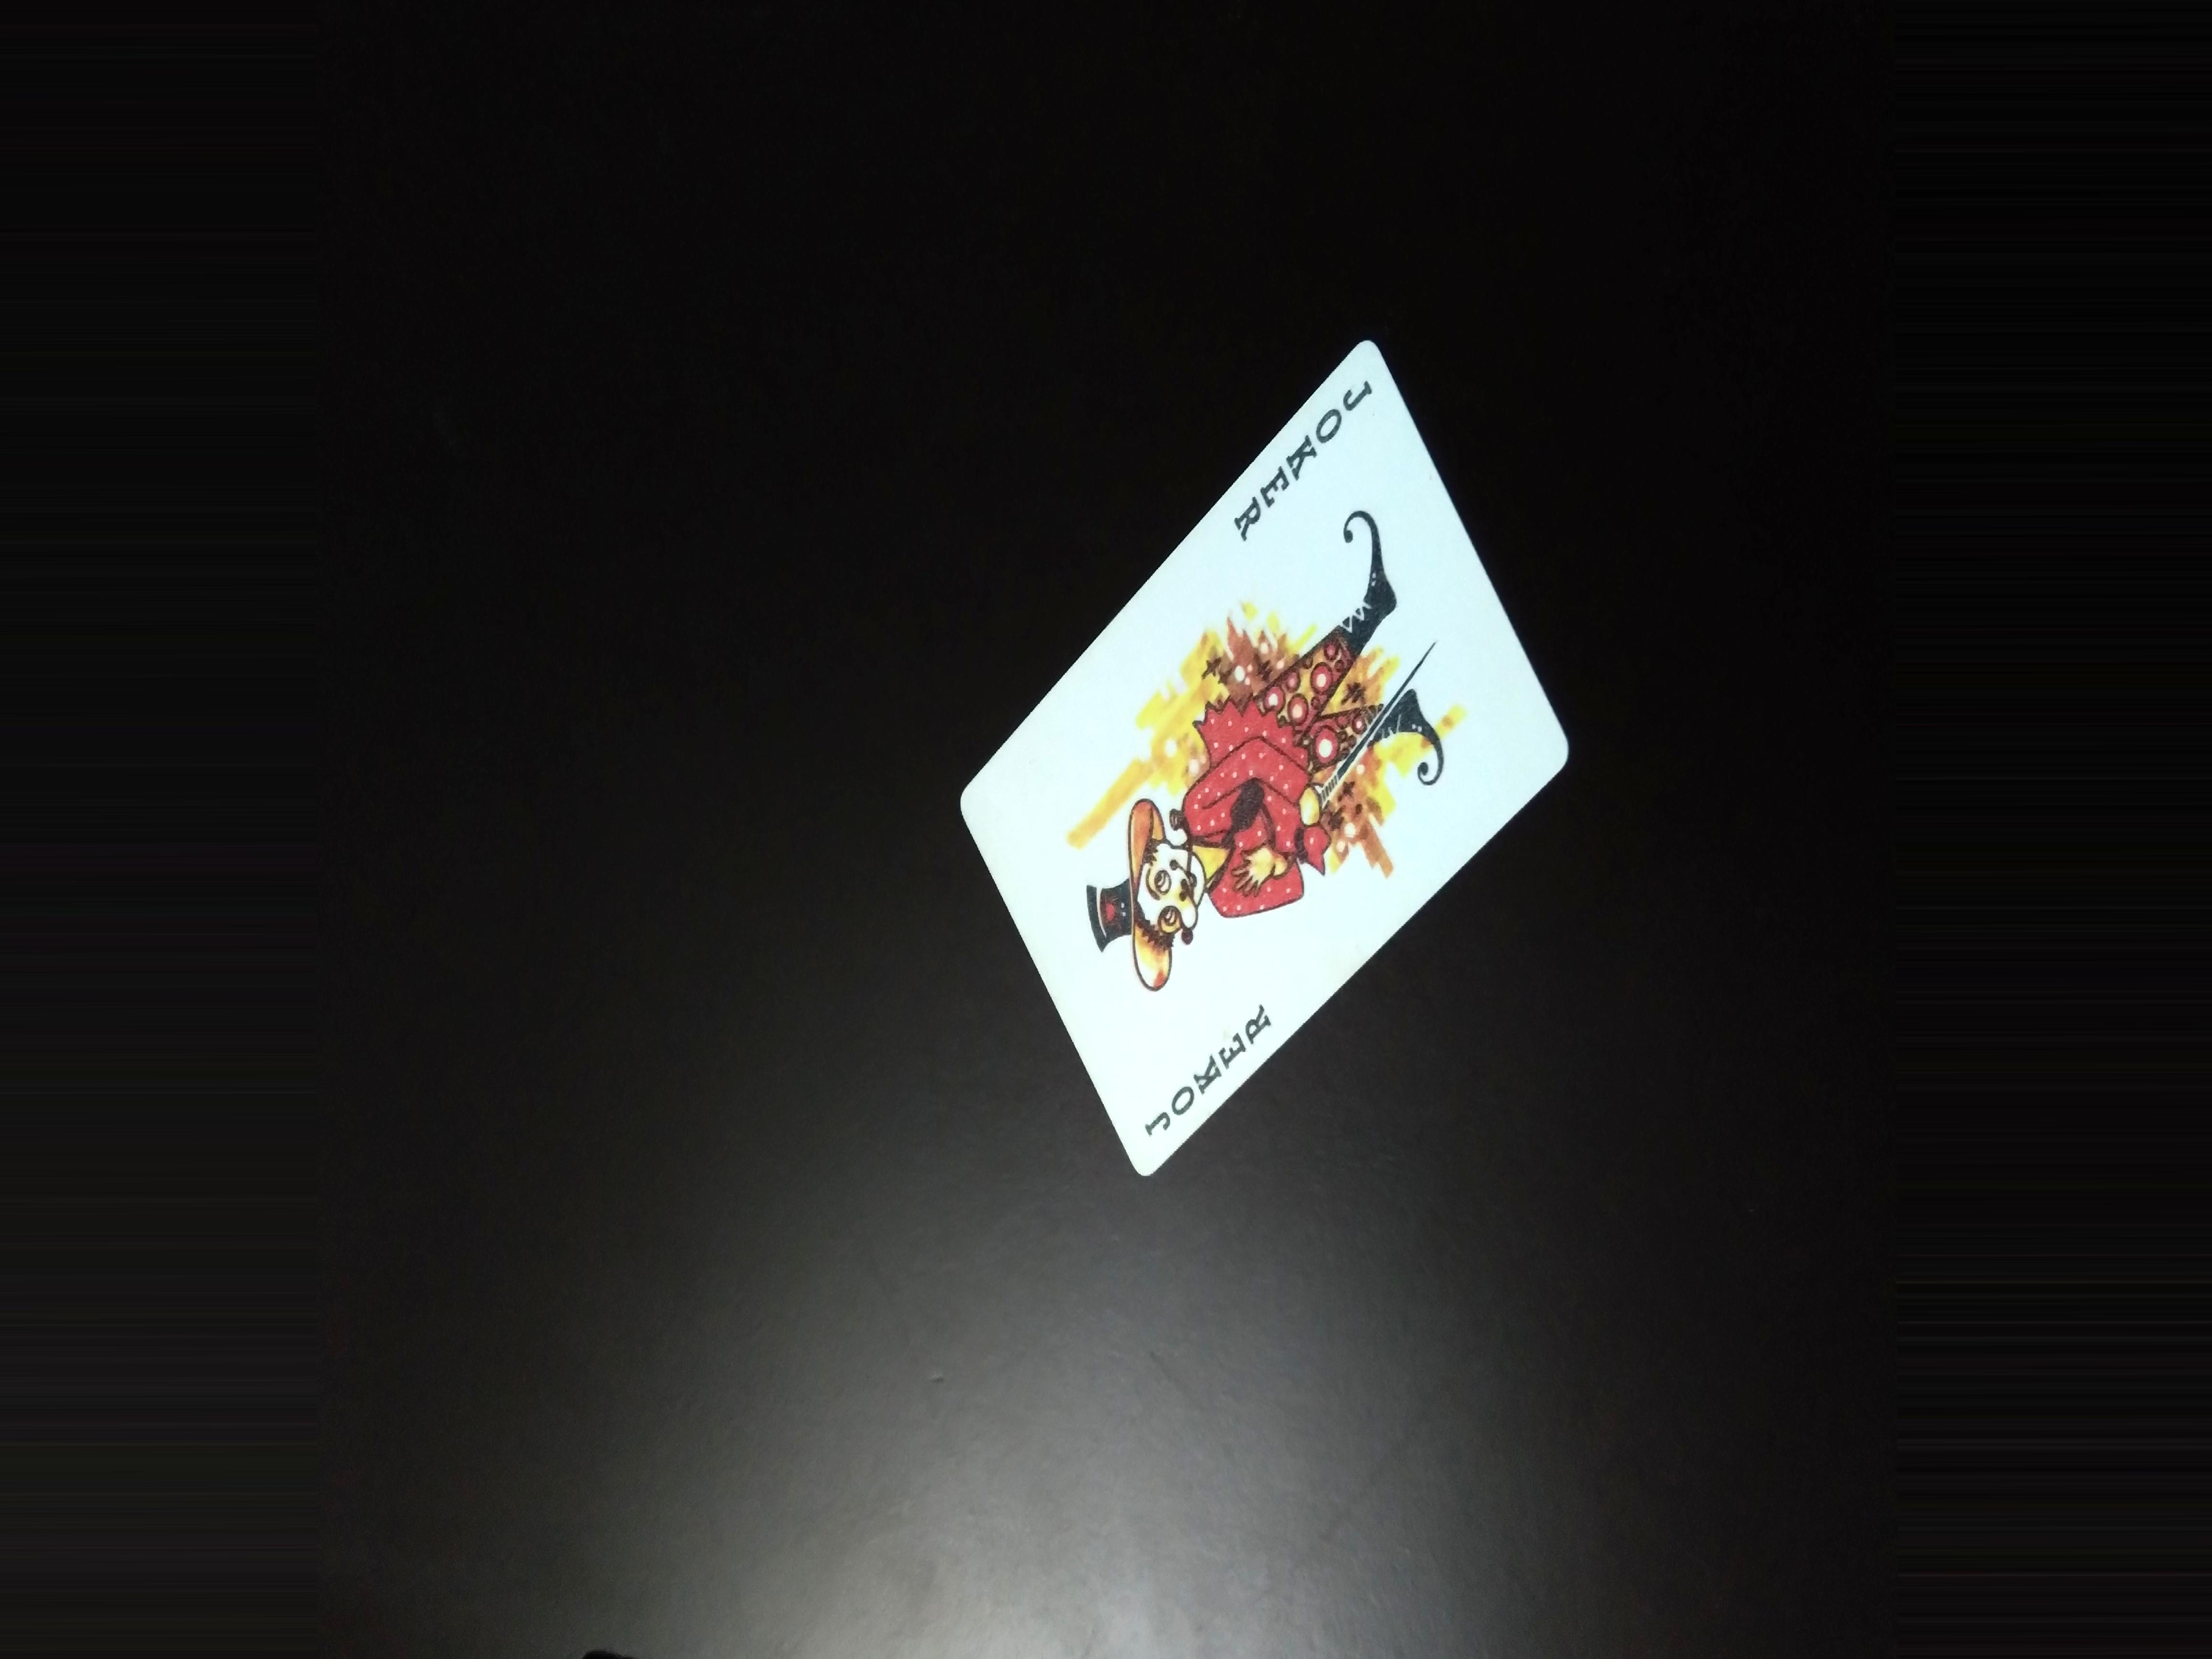JOKER: (1224, 342, 1374, 552)
